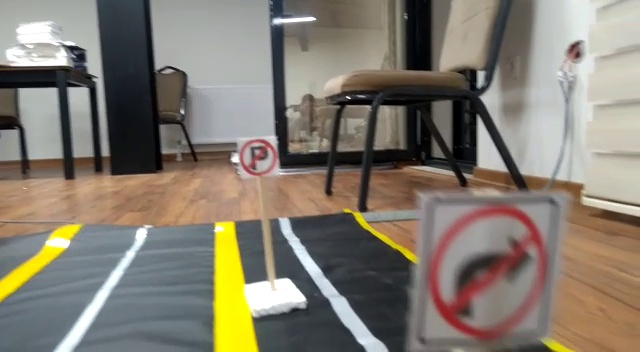park_yapilmaz: (237, 138, 279, 179)
saga_donulmez: (420, 193, 549, 343)
